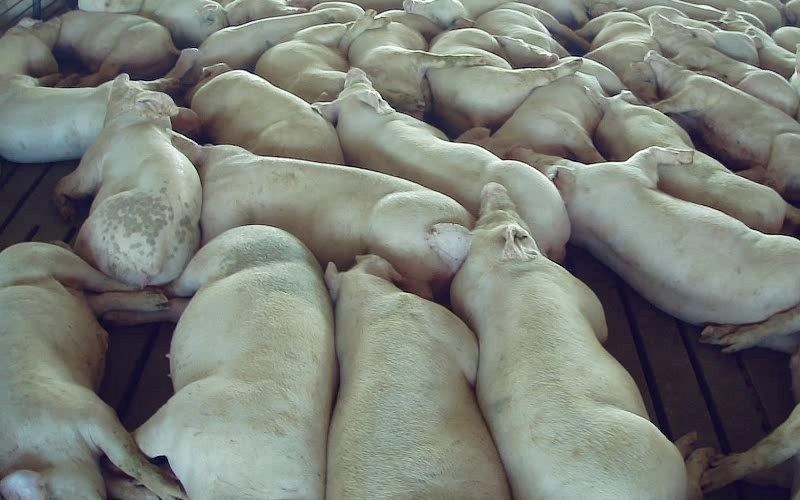pig: (429, 183, 713, 499), (510, 147, 799, 351), (135, 225, 336, 499), (315, 68, 569, 259), (173, 134, 472, 287), (325, 257, 508, 499), (55, 74, 200, 285), (594, 91, 799, 233), (645, 51, 799, 205), (427, 18, 580, 135), (191, 64, 342, 163), (348, 10, 485, 118), (650, 14, 797, 114), (185, 2, 363, 84), (457, 72, 606, 163), (255, 10, 388, 102), (54, 10, 179, 86), (635, 6, 758, 66), (578, 12, 659, 102), (475, 2, 584, 67)
